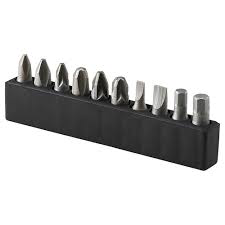screwdriver: (3, 49, 222, 168)
